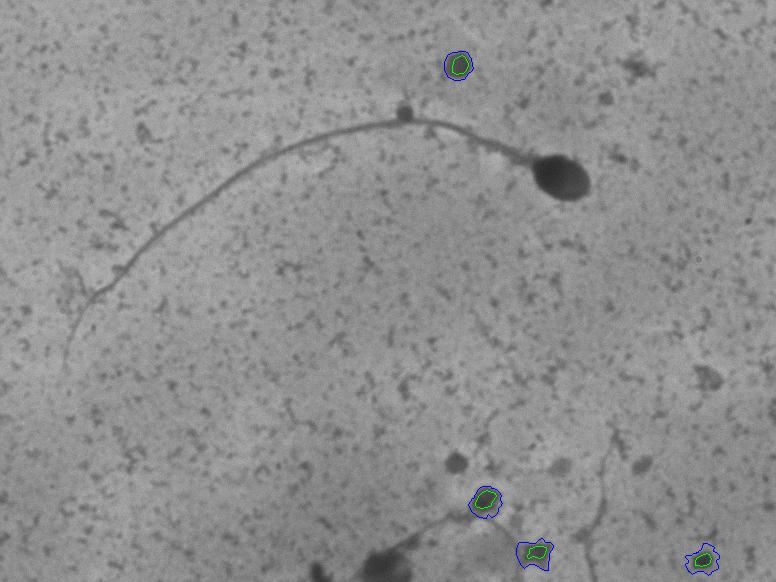Normal: (39, 98, 630, 386)
